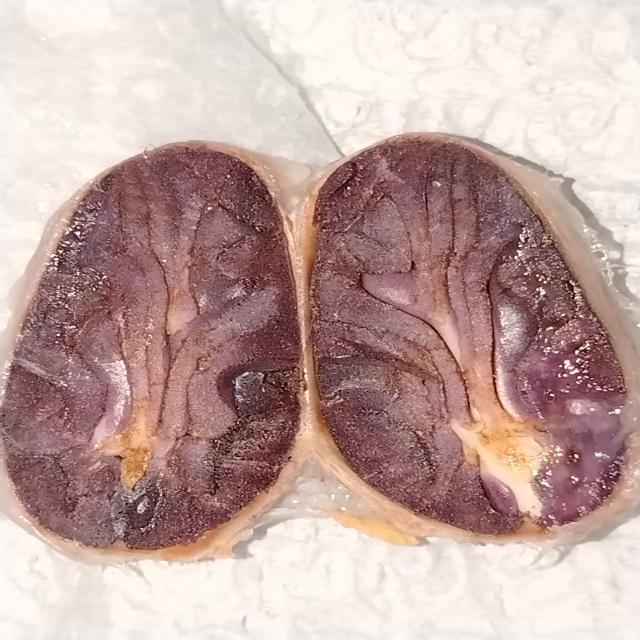Forastero: (310, 143, 629, 537), (9, 146, 301, 550)
